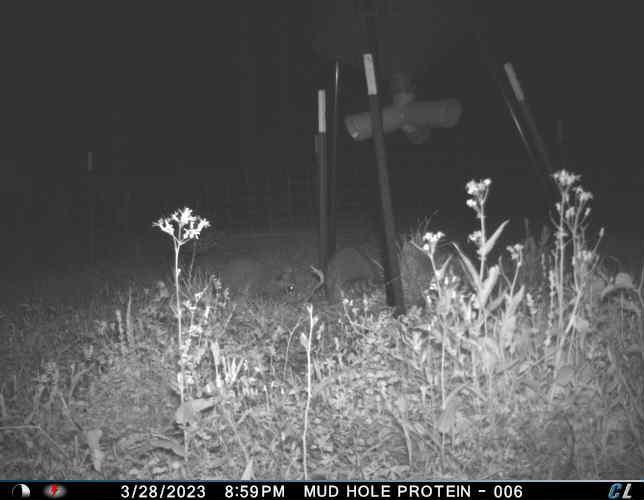Raccoon: (209, 251, 301, 306), (326, 250, 384, 305)
